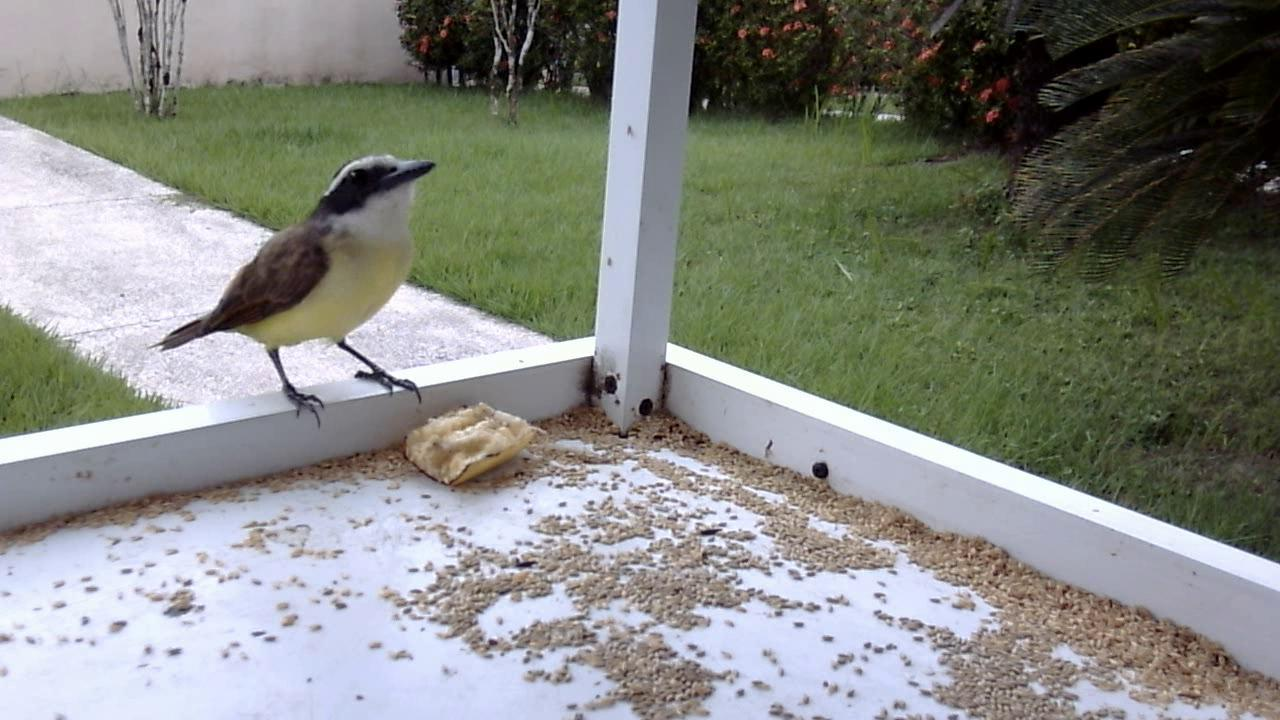bem_te_vi: (144, 148, 441, 435)
